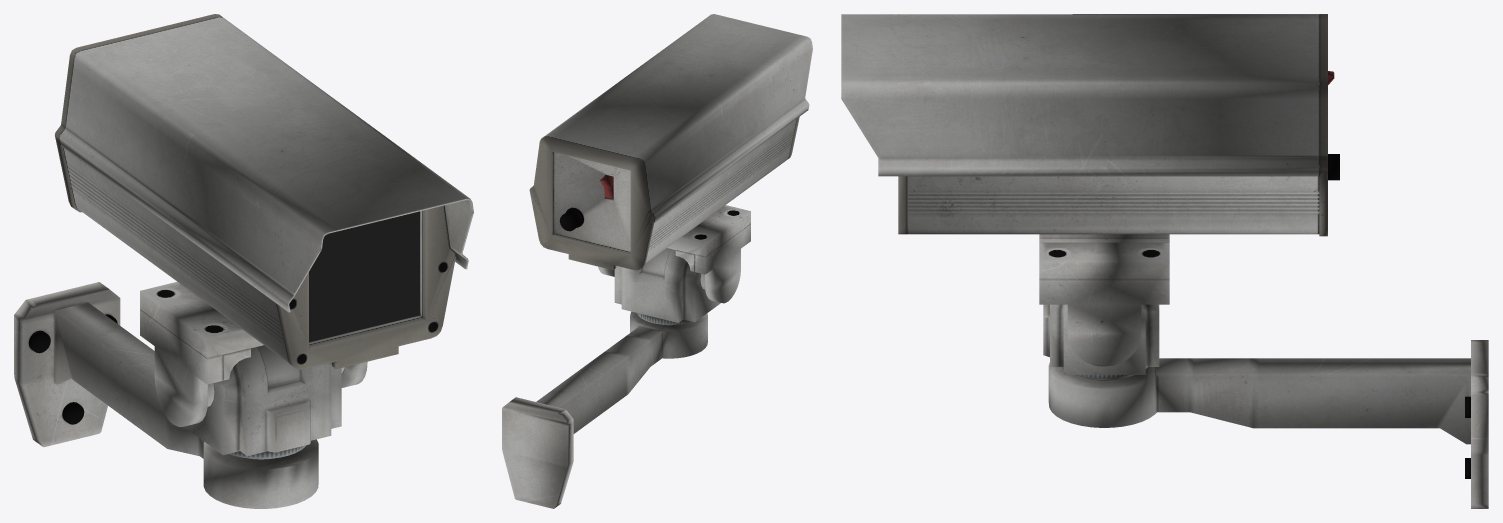
The model's file is cctv_camera.glb.
The picture shows the model from 3 angles, left to right: view 1: azimuth 30°, elevation 25°; view 2: azimuth 150°, elevation 25°; view 3: azimuth 270°, elevation 25°; orthographic projection. The views are drawn at different scales.
Visible parts, largest first — view 1: Object_3, Object_2; view 2: Object_3; view 3: Object_3.
Boxes of the visible parts, x1=… form: Object_3: x1=14, y1=14, x2=473, y2=508; Object_2: x1=309, y1=211, x2=419, y2=342; Object_3: x1=502, y1=14, x2=812, y2=508; Object_3: x1=841, y1=14, x2=1488, y2=508.
Size of the model in its own units: 31.33 by 76.48 by 100.
Materials: 2 (2 with a texture image).
